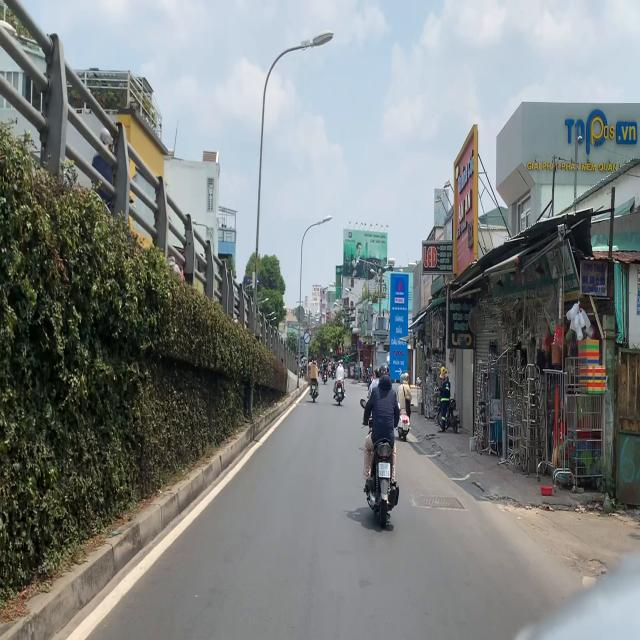Cam do: (357, 340, 363, 350)
Het tat ca lenh cam: (304, 332, 310, 344)
